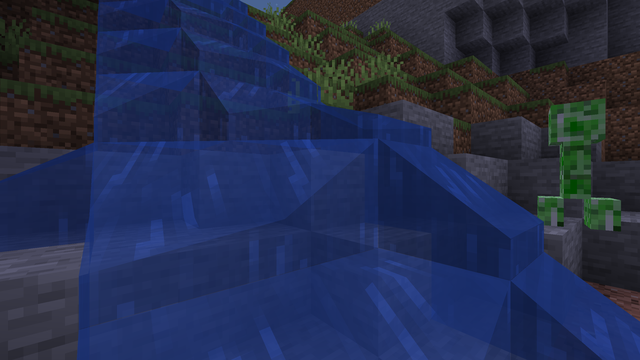creepers: (540, 90, 607, 231)
